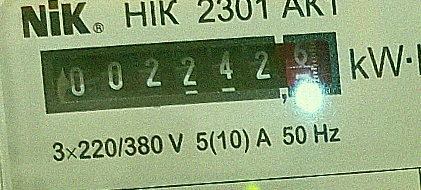0: (65, 63, 88, 98), (103, 57, 125, 92)
2: (141, 54, 163, 88), (177, 52, 198, 87), (252, 48, 271, 81)
4: (216, 47, 234, 81)
6: (291, 38, 309, 67)
screen: (28, 13, 352, 130)
